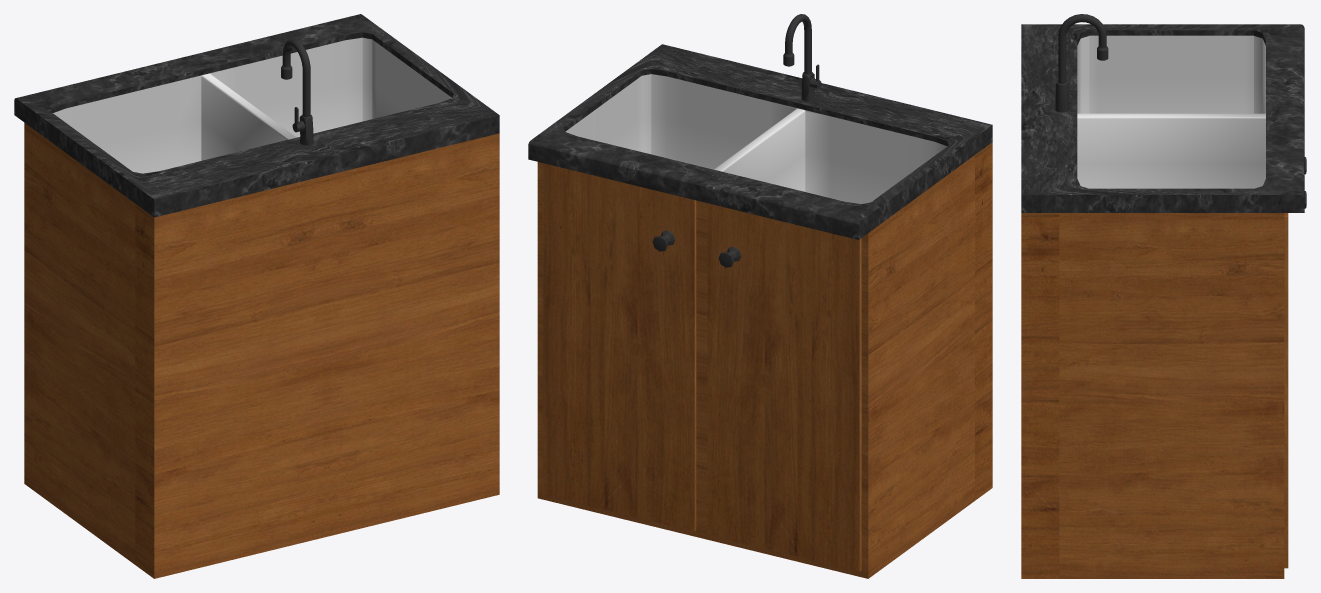
Rendered from counterSink.fbx.
3 renders of one model, left to right at view 1: azimuth 30°, elevation 25°; view 2: azimuth 150°, elevation 25°; view 3: azimuth 270°, elevation 25°, orthographic. The views are drawn at different scales.
Parts seen in each view (by area): view 1: Cube; view 2: Cube; view 3: Cube.
Boxes of the visible parts, x1,y1,x2,y2 form: Cube: (14,14,499,578); Cube: (528,14,992,578); Cube: (1021,14,1306,578).
Bounding box in the file's own units: 200 × 262 × 142.
